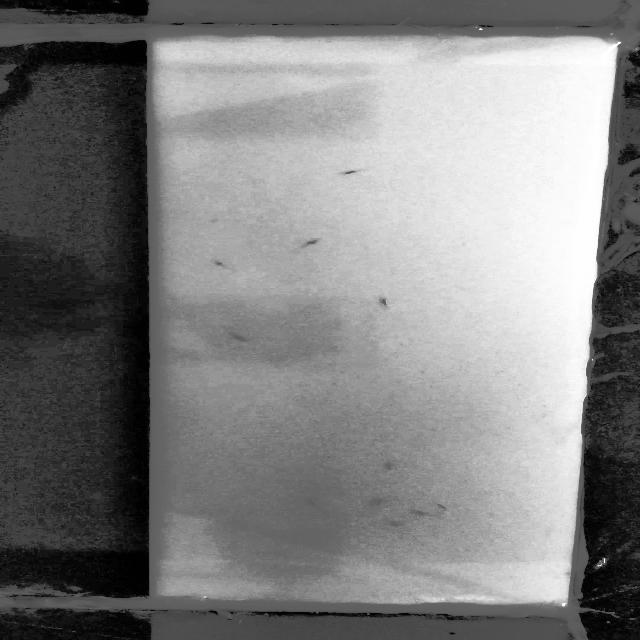shrimp: (294, 485, 332, 517), (290, 232, 330, 250), (223, 326, 254, 347), (199, 258, 240, 270), (335, 165, 372, 178), (431, 499, 456, 515), (374, 294, 395, 312), (368, 496, 392, 508), (381, 517, 407, 528), (378, 465, 406, 474), (416, 507, 434, 518)
